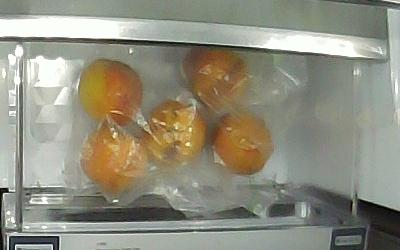peach_vinyl: (142, 100, 207, 170), (183, 45, 252, 110), (78, 59, 143, 127), (80, 128, 148, 193), (211, 112, 274, 174)
